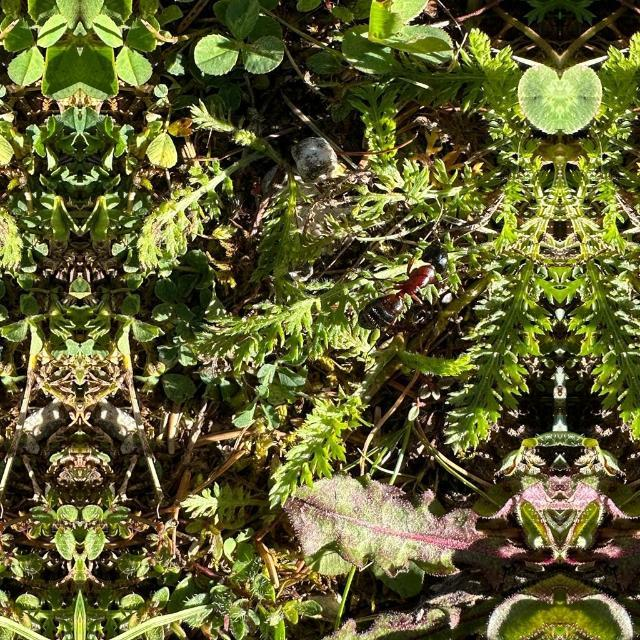Camponotus: (354, 234, 456, 346), (322, 0, 350, 10)
